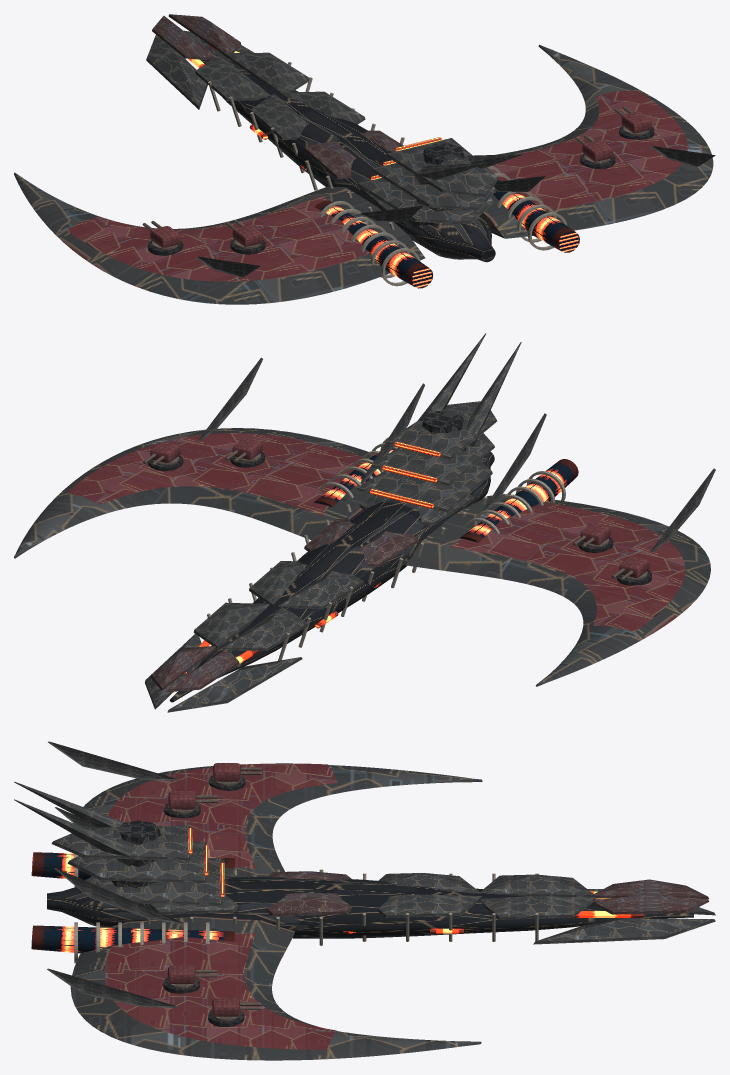
The model's file is dynasty_destroyer_recreated.glb.
The picture shows the model from 3 angles, top to bottom: view 1: azimuth 30°, elevation 25°; view 2: azimuth 150°, elevation 25°; view 3: azimuth 270°, elevation 25°; orthographic projection. The views are drawn at different scales.
Visible parts, largest first — view 1: dynasty_destroyer_recreated; view 2: dynasty_destroyer_recreated; view 3: dynasty_destroyer_recreated.
Part boxes in pixels (x1,y1,x2,y2): dynasty_destroyer_recreated: (14, 14, 715, 304); dynasty_destroyer_recreated: (14, 333, 715, 712); dynasty_destroyer_recreated: (14, 741, 715, 1060).
Bounding box in the file's own units: 1.9 × 0.4212 × 1.9.
Materials: 1 (1 with a texture image).
